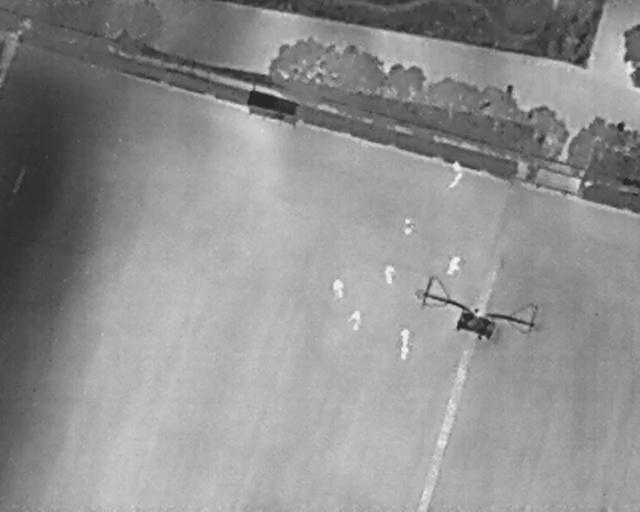Person: (444, 254, 464, 279), (445, 170, 466, 192), (330, 277, 347, 299), (347, 308, 361, 332), (382, 264, 396, 287), (399, 327, 410, 346), (450, 159, 463, 175), (399, 344, 410, 361), (403, 219, 414, 235)
